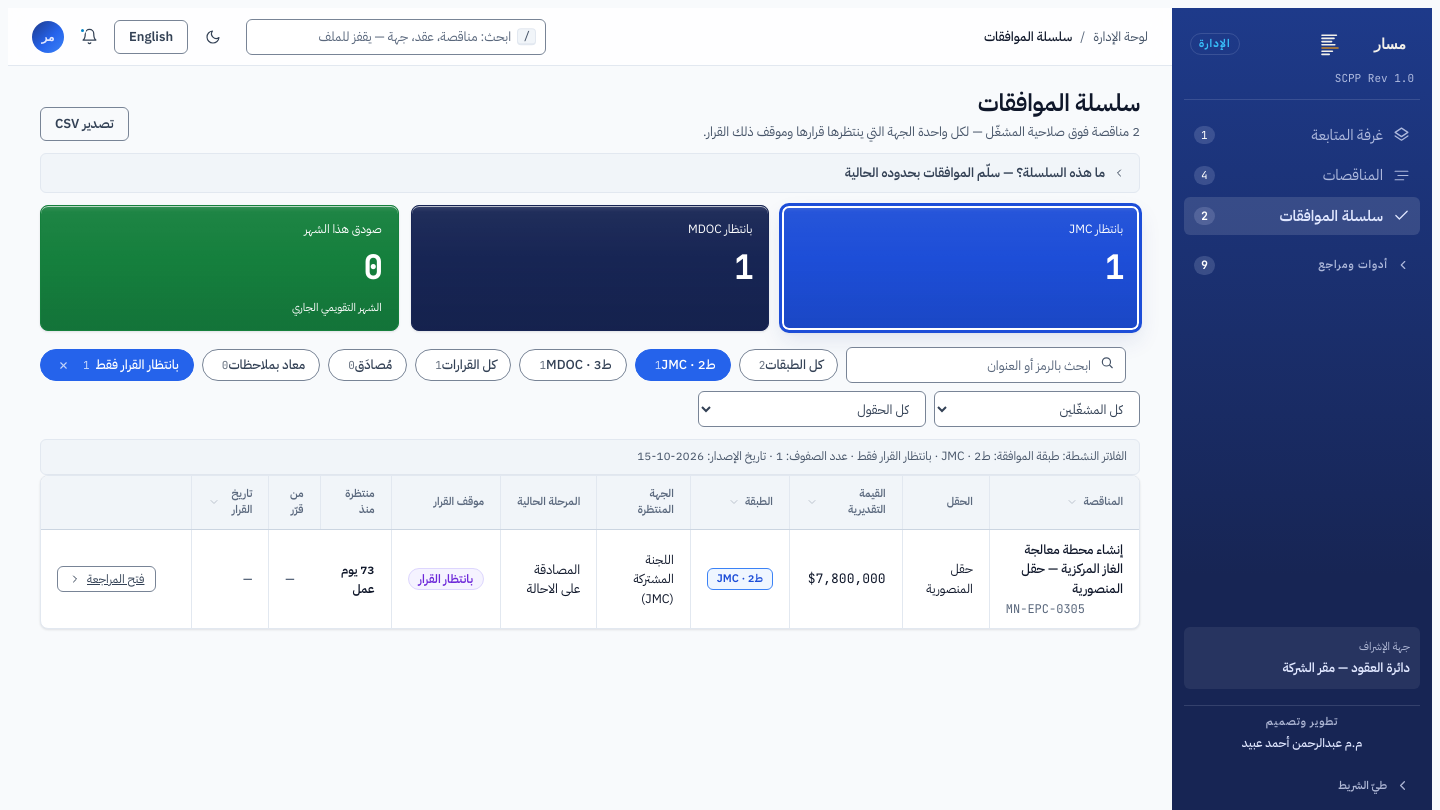
Test: a joint-committee session opens on what waits for its signature (ل2) › is a default, not a cell: the gate carries its own dismiss and the address follows it
Click the button named "أزل المرشّح: بانتظار القرار فقط": click(63, 365) [55,357,71,373]
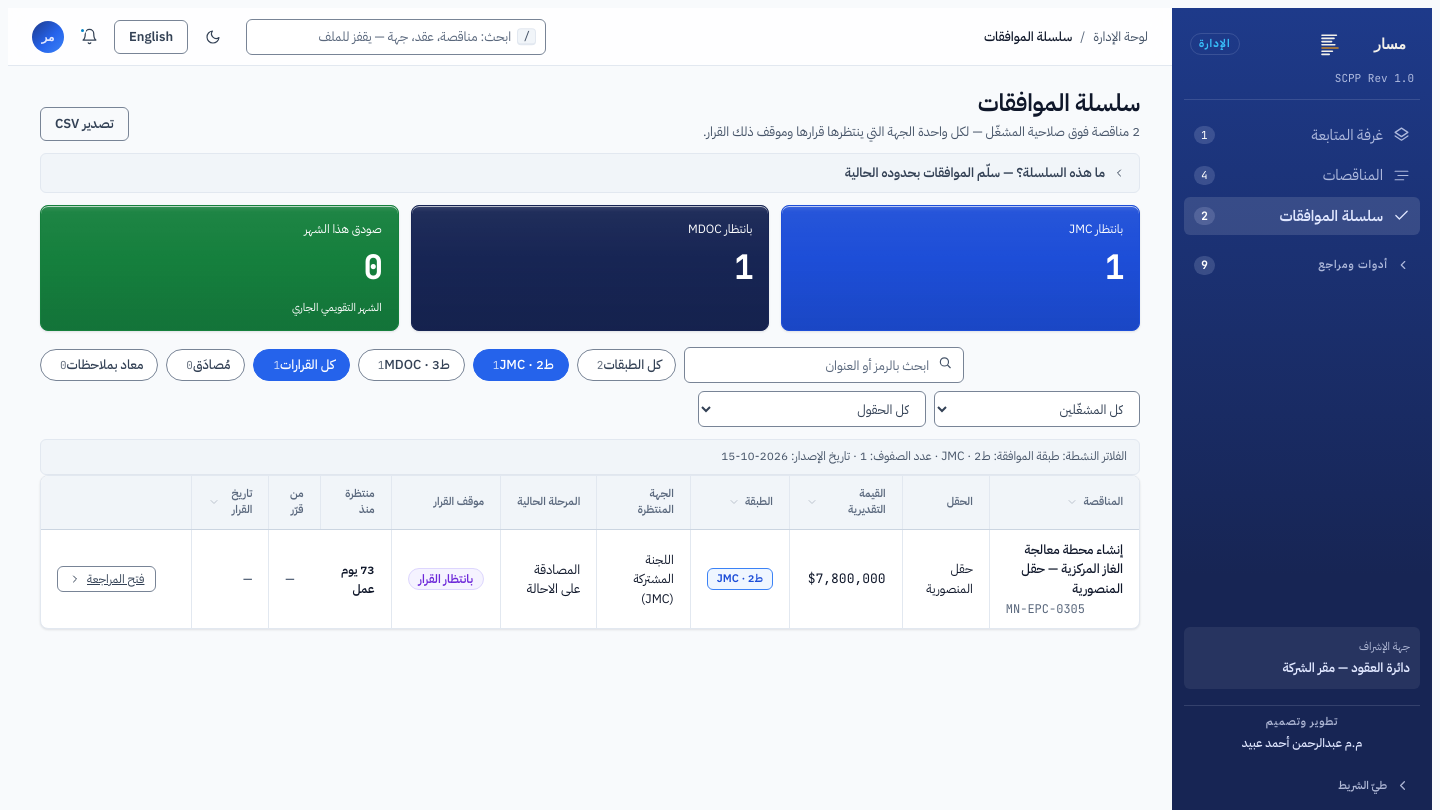
Expected: the text "بانتظار القرار فقط" is gone
